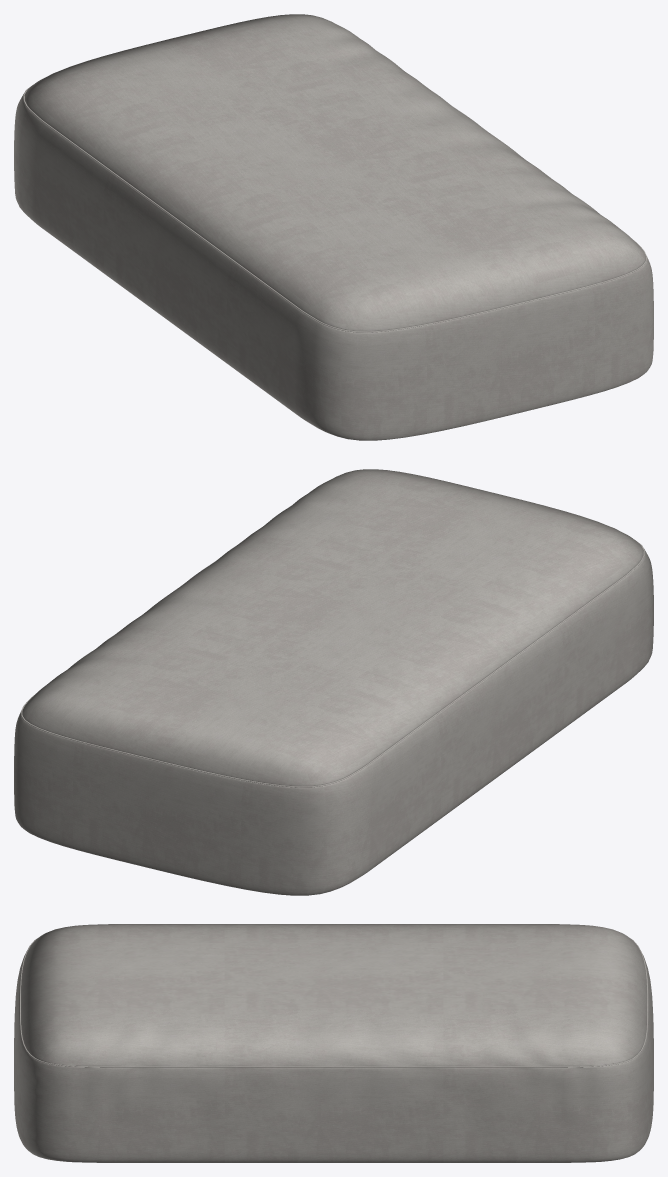
The model's file is banco_sofa.obj.
The picture shows the model from 3 angles, top to bottom: view 1: azimuth 30°, elevation 25°; view 2: azimuth 150°, elevation 25°; view 3: azimuth 270°, elevation 25°; orthographic projection. The views are drawn at different scales.
Visible parts, largest first — view 1: Mesh1 G_2110114_4122 Model; view 2: Mesh1 G_2110114_4122 Model; view 3: Mesh1 G_2110114_4122 Model.
Part boxes in pixels (x1,y1,x2,y2): Mesh1 G_2110114_4122 Model: (14,14,653,440); Mesh1 G_2110114_4122 Model: (14,469,653,895); Mesh1 G_2110114_4122 Model: (14,924,653,1162).
Size of the model in its own units: 1.14 by 0.4468 by 2.13.
